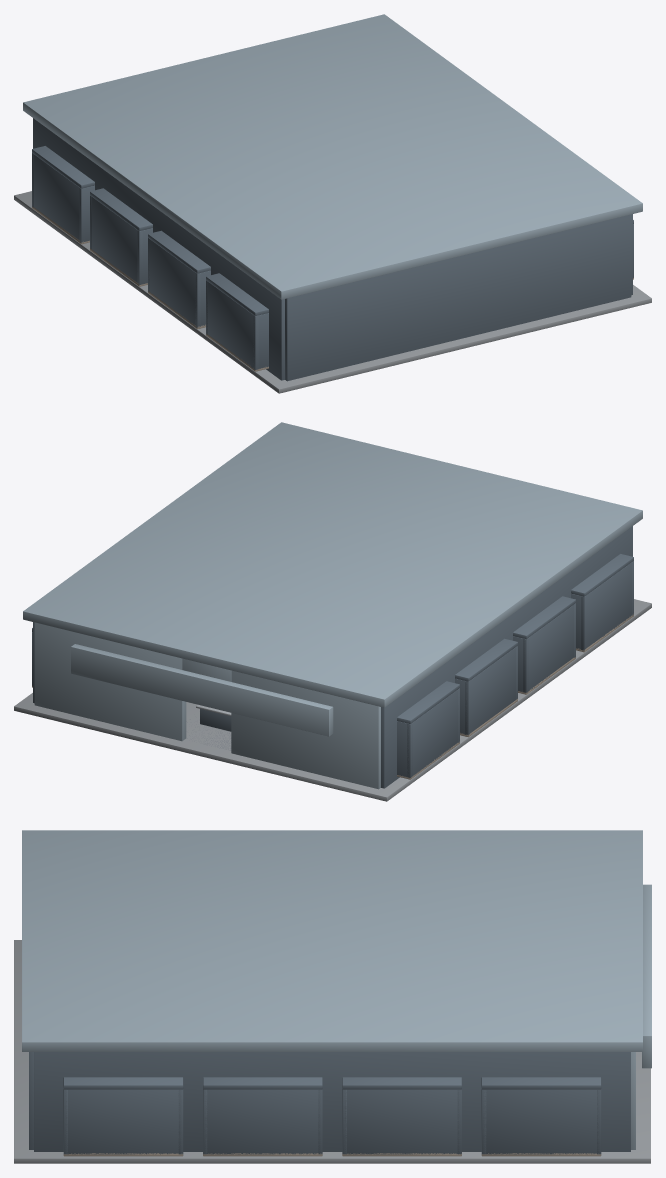
Rendered from th24_aquarienhaus.glb.
3 renders of one model, top to bottom at view 1: azimuth 30°, elevation 25°; view 2: azimuth 150°, elevation 25°; view 3: azimuth 270°, elevation 25°, orthographic. The views are drawn at different scales.
Parts seen in each view (by area): view 1: Cube.008, Cube.005, Cube, Cube.006, Cube.020, Cube.011, Cube.029, Cube.038, Cube.032, Cube.014, Cube.023, Cube.041 (+3 smaller); view 2: Cube.008, Cube.002, Cube.003, Cube.009, Cube, Cube.006, Cube.038, Cube.029, Cube.011, Cube.020, Cube.023, Cube.014 (+4 smaller); view 3: Cube.008, Cube.007, Cube, Cube.056, Cube.074, Cube.065, Cube.047, Cube.009, Cube.050, Cube.077, Cube.059, Cube.068 (+2 smaller).
Boxes of the visible parts, x1,y1,x2,y2 form: Cube.008: [23, 14, 642, 299]; Cube.005: [285, 214, 631, 381]; Cube: [14, 191, 651, 393]; Cube.006: [33, 118, 284, 380]; Cube.020: [148, 238, 200, 327]; Cube.011: [206, 280, 258, 369]; Cube.029: [91, 196, 142, 283]; Cube.038: [32, 154, 84, 241]; Cube.032: [90, 188, 152, 231]; Cube.014: [206, 273, 268, 315]; Cube.023: [148, 230, 210, 273]; Cube.041: [32, 146, 94, 188]; Cube.008: [23, 422, 642, 707]; Cube.002: [231, 670, 380, 789]; Cube.003: [34, 622, 186, 741]; Cube.009: [71, 644, 333, 736]; Cube: [14, 599, 651, 801]; Cube.006: [381, 526, 632, 788]; Cube.038: [407, 688, 459, 777]; Cube.029: [465, 647, 516, 735]; Cube.011: [581, 561, 633, 650]; Cube.020: [523, 604, 574, 692]; Cube.023: [513, 596, 575, 639]; Cube.014: [571, 554, 633, 596]; Cube.008: [22, 830, 642, 1051]; Cube.007: [34, 1052, 630, 1151]; Cube: [14, 940, 650, 1163]; Cube.056: [203, 1089, 322, 1154]; Cube.074: [482, 1089, 601, 1154]; Cube.065: [342, 1089, 461, 1154]; Cube.047: [63, 1089, 182, 1154]; Cube.009: [642, 884, 651, 1068]; Cube.050: [63, 1077, 183, 1089]; Cube.077: [481, 1077, 601, 1089]; Cube.059: [203, 1077, 322, 1089]; Cube.068: [342, 1077, 461, 1089].
Size of the model in its own units: 26.4 by 6.56 by 32.05.
